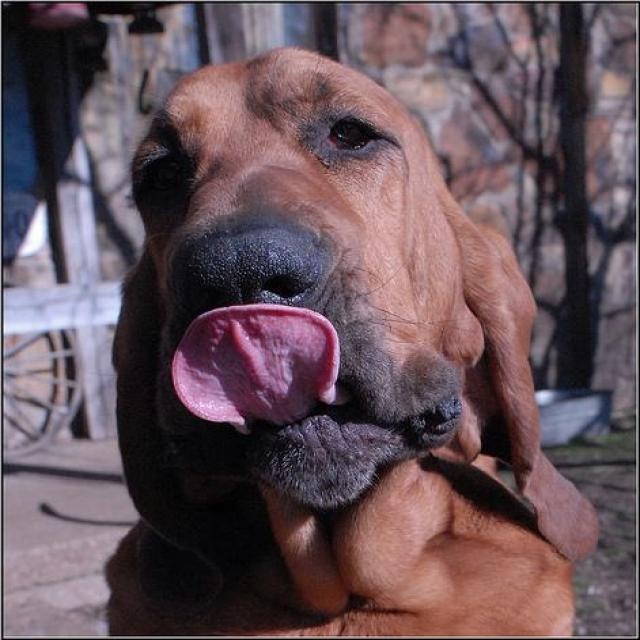bloodhound: (98, 42, 608, 638)
